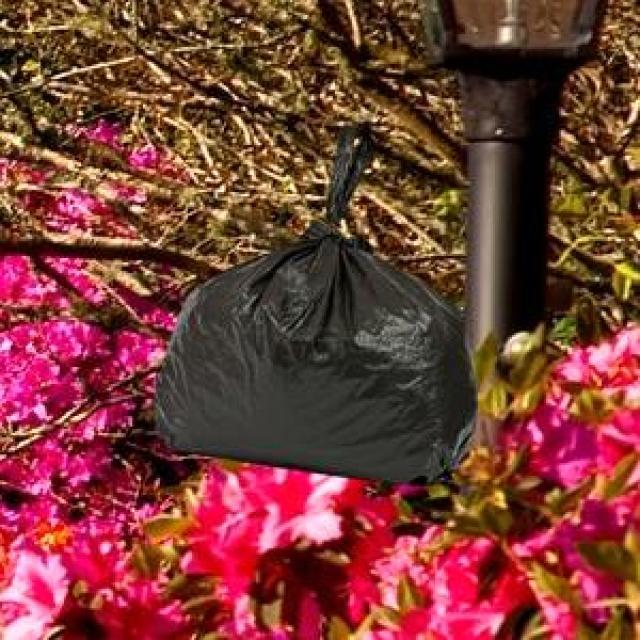Garbage_Bag: (152, 119, 474, 484)
